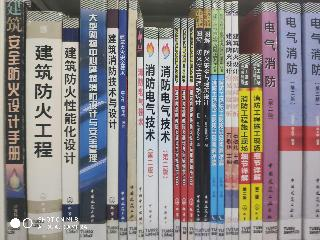book-spine: (28, 12, 63, 239), (80, 1, 106, 239), (5, 0, 27, 239), (279, 3, 301, 239), (262, 3, 277, 239), (305, 4, 320, 239), (64, 18, 78, 240), (159, 28, 173, 240), (107, 0, 119, 240), (145, 28, 157, 239), (251, 54, 263, 240), (239, 54, 250, 239), (203, 2, 211, 239), (195, 1, 202, 239), (129, 2, 136, 239), (211, 1, 217, 240), (218, 1, 224, 240), (120, 2, 126, 240), (231, 2, 237, 239), (225, 2, 231, 238), (188, 19, 194, 240), (174, 19, 180, 239), (182, 19, 187, 240), (138, 19, 143, 239)
